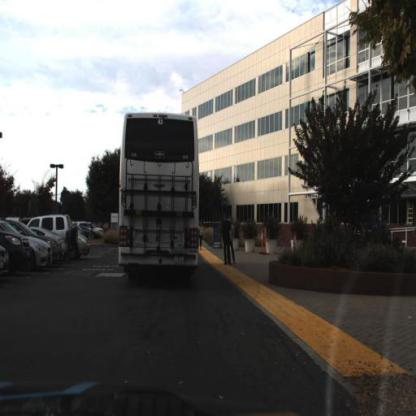car: (33, 212, 79, 255), (9, 225, 30, 274), (44, 213, 78, 243), (10, 232, 31, 274), (31, 233, 55, 269), (75, 220, 108, 243), (73, 231, 91, 266), (78, 229, 92, 261), (52, 241, 66, 266)
pedestrian: (406, 197, 416, 267), (222, 214, 233, 266), (196, 217, 208, 256), (312, 211, 329, 234), (230, 219, 238, 267)
truck: (116, 107, 207, 284)
